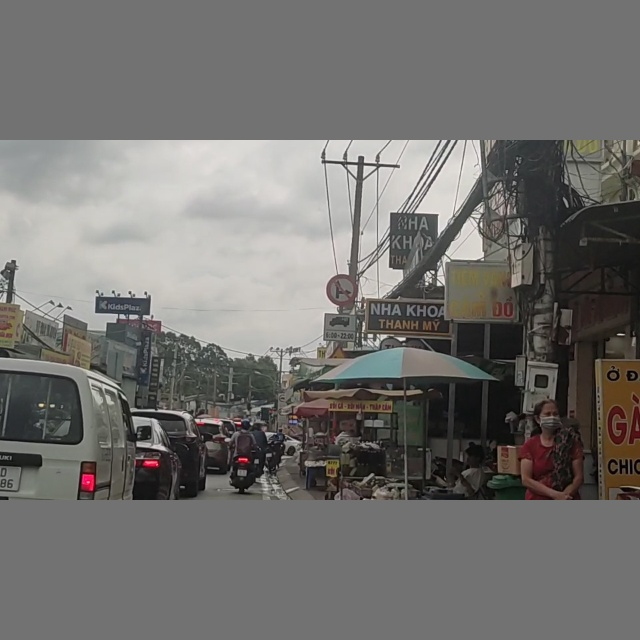P.139: (325, 273, 357, 303)
S.505a*Xe tai: (324, 313, 357, 340)
